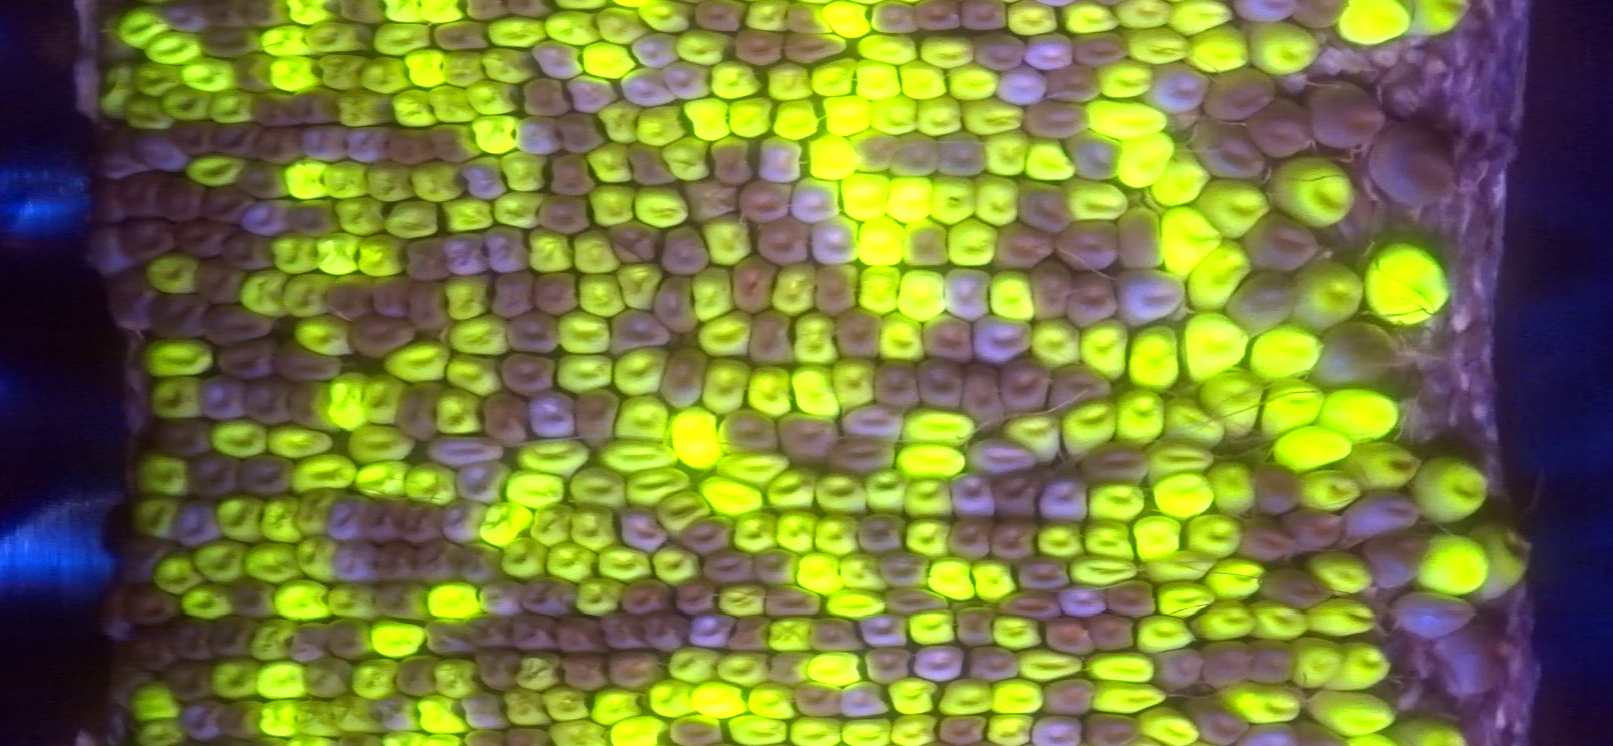fluorescent: (1274, 156, 1350, 225), (1374, 245, 1440, 322), (1420, 453, 1486, 523), (1196, 181, 1267, 238), (1319, 391, 1394, 443), (1246, 17, 1318, 72), (1295, 263, 1361, 321), (1466, 522, 1526, 584), (1182, 316, 1246, 375), (1310, 692, 1392, 735), (1423, 539, 1485, 594), (1251, 329, 1317, 381), (1200, 375, 1255, 436), (1221, 683, 1298, 724), (1130, 325, 1176, 393), (1193, 242, 1239, 310), (1084, 100, 1166, 136), (1161, 214, 1217, 267), (1338, 5, 1408, 45), (1153, 153, 1207, 206), (1267, 436, 1350, 469), (697, 473, 761, 516), (1060, 404, 1119, 449), (1117, 136, 1169, 185), (1164, 397, 1218, 445), (1311, 550, 1365, 597), (385, 342, 445, 383), (1062, 177, 1125, 216), (672, 410, 721, 460), (792, 365, 840, 417), (1202, 563, 1265, 601), (1082, 320, 1123, 379), (1265, 383, 1318, 428), (611, 398, 666, 440), (615, 348, 666, 393), (598, 440, 677, 469), (1206, 466, 1256, 511), (443, 321, 509, 355), (143, 341, 213, 372), (901, 268, 945, 318), (1004, 419, 1060, 459), (1193, 28, 1253, 65), (1310, 600, 1373, 634), (1250, 601, 1307, 638), (843, 173, 885, 223), (702, 221, 752, 263), (1364, 449, 1415, 490), (1154, 479, 1213, 516), (294, 317, 351, 354), (1292, 642, 1336, 689), (242, 272, 292, 313), (1299, 475, 1357, 511), (635, 185, 690, 222), (588, 185, 635, 229), (934, 174, 976, 222), (928, 560, 977, 601), (214, 420, 268, 457), (1092, 684, 1162, 713), (809, 135, 854, 179), (1189, 519, 1245, 555), (1137, 614, 1190, 651), (350, 428, 414, 459), (1019, 649, 1083, 680), (1089, 650, 1155, 680), (1027, 136, 1071, 180), (1139, 709, 1196, 743), (682, 98, 728, 140), (151, 375, 199, 416), (857, 32, 916, 65), (909, 410, 968, 442), (446, 276, 490, 320), (214, 500, 259, 542), (1337, 649, 1383, 691), (884, 676, 935, 713), (1119, 393, 1158, 441), (557, 313, 606, 351), (898, 449, 961, 478), (882, 315, 925, 358), (433, 393, 483, 430), (664, 138, 709, 179), (701, 313, 746, 354), (836, 363, 877, 408), (659, 490, 706, 530), (248, 545, 299, 581), (277, 584, 328, 620), (1128, 30, 1192, 59), (288, 458, 352, 487), (519, 439, 583, 468), (1397, 718, 1468, 744), (753, 369, 795, 413), (857, 224, 901, 265), (617, 264, 658, 309), (717, 651, 767, 687), (777, 263, 815, 311), (579, 276, 628, 313), (370, 621, 423, 655), (483, 47, 533, 83), (562, 355, 611, 391), (1092, 483, 1142, 519), (680, 29, 724, 69), (966, 101, 1021, 133), (870, 98, 917, 136), (449, 358, 502, 391), (992, 269, 1029, 316), (708, 360, 745, 407), (420, 692, 467, 730), (494, 192, 545, 226), (580, 42, 629, 78), (1158, 582, 1213, 614), (530, 230, 572, 272), (1034, 324, 1075, 366), (908, 476, 952, 517), (363, 165, 413, 200), (767, 472, 814, 509), (710, 63, 760, 97), (572, 506, 614, 546), (120, 13, 169, 48), (979, 174, 1014, 222), (358, 239, 406, 274), (596, 548, 654, 577), (283, 163, 327, 201), (806, 653, 861, 684), (592, 687, 641, 721), (404, 469, 457, 501), (915, 99, 961, 135), (294, 700, 340, 736), (272, 424, 331, 452), (949, 222, 991, 262), (1146, 447, 1208, 473), (689, 274, 732, 312), (1038, 522, 1081, 560), (1099, 60, 1147, 94), (1084, 524, 1133, 558), (321, 159, 365, 197), (987, 132, 1024, 176), (572, 235, 617, 271), (366, 376, 402, 421), (723, 453, 780, 482), (337, 90, 384, 125), (993, 679, 1039, 714), (335, 697, 382, 732), (272, 54, 313, 93), (892, 177, 931, 218), (335, 199, 386, 230), (199, 544, 242, 581), (477, 502, 522, 538), (388, 204, 436, 237), (1173, 3, 1229, 31), (903, 61, 943, 100), (860, 59, 898, 100), (275, 234, 316, 272), (430, 86, 472, 123), (150, 255, 192, 292), (319, 54, 366, 86), (141, 457, 188, 490), (573, 470, 620, 503), (972, 562, 1016, 597), (549, 10, 595, 44), (357, 464, 408, 494), (729, 103, 770, 140), (410, 169, 460, 200), (649, 550, 698, 581), (817, 518, 859, 554), (1135, 520, 1177, 556), (1414, 1, 1469, 29), (919, 37, 973, 65), (509, 471, 562, 500), (824, 98, 871, 130), (430, 583, 477, 615), (470, 114, 514, 148), (126, 93, 170, 127), (288, 274, 326, 313), (363, 54, 404, 90), (775, 104, 817, 139), (862, 272, 897, 314), (647, 679, 694, 710), (374, 24, 429, 50), (636, 110, 680, 143), (299, 537, 332, 581), (258, 499, 296, 537), (168, 87, 208, 123), (797, 317, 833, 357), (212, 664, 257, 696), (182, 587, 230, 616), (405, 52, 446, 87), (602, 103, 637, 144), (504, 152, 545, 187), (949, 66, 996, 97), (696, 682, 743, 713), (551, 717, 607, 743), (630, 472, 687, 497), (912, 613, 956, 646), (391, 90, 432, 123), (748, 682, 793, 713), (549, 544, 592, 577), (809, 62, 852, 94), (446, 198, 490, 229), (490, 17, 545, 42), (1014, 1, 1053, 36), (869, 472, 904, 511), (1194, 610, 1252, 634), (126, 684, 173, 713), (506, 690, 547, 723), (824, 592, 884, 614), (147, 34, 200, 60), (189, 157, 242, 183), (1070, 7, 1118, 35), (592, 144, 628, 181), (261, 665, 299, 700), (314, 239, 353, 273), (132, 63, 183, 88), (466, 83, 515, 110), (612, 718, 666, 743), (943, 682, 988, 712), (442, 55, 483, 86), (186, 58, 231, 86), (336, 375, 362, 425), (770, 67, 809, 101), (729, 718, 784, 742), (821, 478, 864, 508), (531, 506, 570, 539), (796, 558, 840, 587), (671, 649, 712, 680), (738, 517, 774, 552), (264, 24, 307, 54), (1144, 562, 1212, 580), (437, 663, 475, 696), (788, 720, 840, 744), (985, 717, 1032, 744), (504, 540, 542, 572), (779, 513, 811, 552), (331, 590, 374, 617), (908, 521, 948, 550), (723, 585, 761, 616), (598, 9, 640, 37), (644, 2, 691, 27), (845, 720, 891, 745), (1071, 564, 1136, 581), (827, 6, 866, 35), (155, 562, 194, 591), (516, 655, 555, 684), (257, 704, 296, 733), (1120, 1, 1166, 26), (581, 580, 615, 613), (998, 619, 1042, 644), (546, 691, 586, 718), (299, 494, 328, 531), (892, 719, 935, 744), (284, 3, 335, 24), (417, 1, 464, 23), (774, 618, 806, 649), (107, 67, 133, 106), (844, 560, 882, 585), (212, 91, 246, 119), (139, 502, 173, 531), (253, 625, 287, 653), (359, 662, 390, 692), (749, 4, 786, 29), (135, 722, 177, 744), (382, 1, 421, 22)
nonfluorescent: (1372, 122, 1462, 211), (1309, 73, 1391, 150), (1307, 323, 1401, 390), (1188, 122, 1269, 180), (1436, 634, 1502, 703), (1248, 212, 1323, 270), (1346, 491, 1422, 544), (1114, 274, 1186, 326), (968, 311, 1035, 364), (1067, 263, 1119, 331), (1251, 104, 1315, 158), (1050, 217, 1120, 267), (1178, 696, 1248, 745), (778, 408, 839, 464), (1209, 67, 1274, 119), (963, 434, 1048, 473), (1394, 594, 1479, 633), (1362, 537, 1423, 592), (1073, 439, 1149, 481), (1017, 176, 1073, 232), (944, 267, 998, 324), (106, 267, 148, 340), (1280, 504, 1346, 550), (711, 408, 778, 454), (1068, 134, 1127, 184), (1122, 204, 1164, 274), (1257, 566, 1324, 609), (574, 386, 620, 448), (1145, 647, 1207, 694), (1148, 64, 1206, 113), (236, 451, 294, 499), (708, 135, 760, 188), (808, 219, 865, 267), (1235, 271, 1283, 328), (750, 308, 796, 366), (603, 221, 662, 267), (1052, 363, 1112, 408), (489, 269, 539, 322), (206, 306, 275, 345), (399, 379, 441, 442), (999, 222, 1054, 271), (1099, 576, 1163, 617), (1021, 102, 1091, 140), (147, 295, 207, 340), (759, 215, 810, 267), (812, 265, 860, 319), (1033, 257, 1074, 320), (1255, 457, 1302, 511), (406, 275, 449, 335), (654, 276, 696, 336), (664, 349, 708, 406), (888, 131, 939, 180), (939, 130, 992, 178), (1003, 360, 1051, 413), (349, 318, 414, 357), (158, 171, 205, 225), (832, 304, 879, 358), (685, 180, 745, 222), (498, 350, 558, 392), (186, 451, 238, 499), (965, 362, 1003, 427), (625, 144, 681, 188), (661, 228, 712, 277), (920, 314, 971, 361), (213, 343, 275, 382), (274, 344, 335, 383), (877, 546, 936, 588), (485, 392, 528, 448), (760, 135, 810, 183), (917, 358, 964, 408), (530, 389, 576, 440), (1023, 30, 1080, 71), (424, 435, 506, 464), (1244, 517, 1297, 561), (452, 459, 507, 501), (533, 268, 581, 316), (508, 309, 560, 354), (1080, 709, 1143, 746), (519, 576, 577, 616), (606, 652, 664, 692), (729, 253, 772, 308), (1245, 641, 1299, 683), (762, 585, 826, 621), (966, 644, 1025, 683), (1039, 472, 1086, 521), (1200, 639, 1249, 686), (212, 615, 263, 660), (779, 33, 848, 66), (290, 380, 333, 432), (789, 178, 843, 220), (174, 501, 221, 548), (196, 261, 246, 307), (547, 151, 599, 194), (906, 219, 949, 271), (990, 518, 1041, 561), (300, 656, 353, 699), (861, 643, 913, 685), (301, 119, 350, 165), (734, 27, 785, 70), (1046, 65, 1105, 102), (997, 591, 1061, 625), (555, 651, 608, 692), (538, 193, 592, 234), (203, 376, 249, 422), (618, 507, 668, 550), (330, 541, 380, 584), (740, 180, 790, 222), (876, 359, 918, 411), (843, 403, 901, 439), (680, 517, 732, 557), (686, 1, 750, 34), (968, 30, 1025, 67), (386, 125, 435, 167), (169, 117, 218, 159), (449, 225, 487, 280), (561, 115, 612, 155), (832, 441, 899, 472), (459, 541, 504, 587), (796, 680, 843, 724), (466, 159, 513, 203), (103, 128, 146, 175), (992, 472, 1039, 516), (167, 663, 220, 701), (212, 116, 261, 157), (225, 235, 280, 272), (597, 611, 642, 655), (327, 274, 373, 317), (806, 617, 862, 653), (621, 66, 671, 106), (126, 583, 179, 620), (621, 579, 675, 616), (535, 40, 585, 79), (122, 169, 158, 223), (435, 125, 487, 163), (127, 221, 178, 259), (945, 516, 991, 559), (416, 542, 461, 585), (329, 494, 370, 541), (155, 419, 208, 456), (858, 514, 910, 552), (372, 584, 425, 621), (523, 79, 572, 118), (204, 183, 248, 226), (951, 473, 994, 518), (752, 546, 796, 590), (856, 127, 898, 172), (570, 75, 616, 116), (131, 632, 177, 673), (705, 547, 752, 588), (909, 646, 967, 679), (242, 165, 290, 204), (997, 65, 1046, 103), (515, 115, 561, 156), (403, 497, 444, 542), (1042, 679, 1094, 715), (682, 616, 734, 651), (486, 228, 529, 271), (406, 238, 449, 281), (346, 127, 390, 168), (869, 2, 923, 36), (249, 379, 289, 424), (1018, 560, 1072, 594), (464, 616, 514, 652), (243, 198, 289, 237), (853, 614, 909, 646), (952, 606, 999, 644), (295, 85, 344, 122), (1085, 616, 1134, 653), (260, 123, 303, 165), (368, 277, 409, 320), (377, 541, 418, 584), (562, 614, 605, 655), (229, 579, 274, 619), (424, 617, 470, 655), (513, 613, 560, 651), (290, 202, 339, 237), (934, 714, 988, 746), (843, 681, 890, 717), (218, 700, 261, 739), (123, 538, 167, 577), (478, 579, 522, 618), (433, 21, 490, 50), (879, 585, 949, 609), (632, 32, 681, 66), (913, 1, 966, 33), (178, 222, 230, 254), (371, 495, 404, 545), (458, 690, 501, 729), (97, 221, 127, 276), (159, 1, 209, 34), (1040, 625, 1089, 658), (958, 1, 1010, 32), (476, 649, 517, 688), (182, 701, 220, 743), (98, 587, 128, 640), (1032, 713, 1080, 746), (198, 28, 259, 54), (667, 580, 718, 611), (445, 502, 485, 542), (324, 618, 364, 658), (178, 619, 216, 661), (728, 618, 776, 651), (1063, 587, 1108, 620), (644, 610, 684, 648), (782, 1, 831, 32), (667, 65, 709, 101), (1072, 32, 1126, 60), (92, 180, 123, 227), (1291, 1, 1350, 27), (235, 54, 274, 91), (146, 130, 186, 166), (377, 697, 416, 733), (398, 659, 438, 692), (202, 1, 248, 30), (256, 91, 296, 123), (1240, 1, 1299, 23), (339, 1, 389, 27), (1245, 722, 1298, 746), (292, 620, 323, 661), (767, 651, 806, 682), (249, 1, 285, 30), (1300, 722, 1343, 746), (503, 1, 558, 17), (111, 665, 129, 712), (471, 1, 507, 20)
